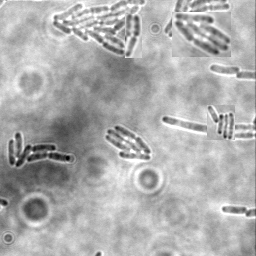Dividing: (161, 114, 255, 133), (125, 14, 142, 58), (221, 204, 248, 215)
Microcolony: (51, 1, 147, 56), (172, 12, 231, 57), (8, 130, 72, 167), (106, 124, 153, 160), (207, 105, 235, 140), (208, 63, 240, 74)
